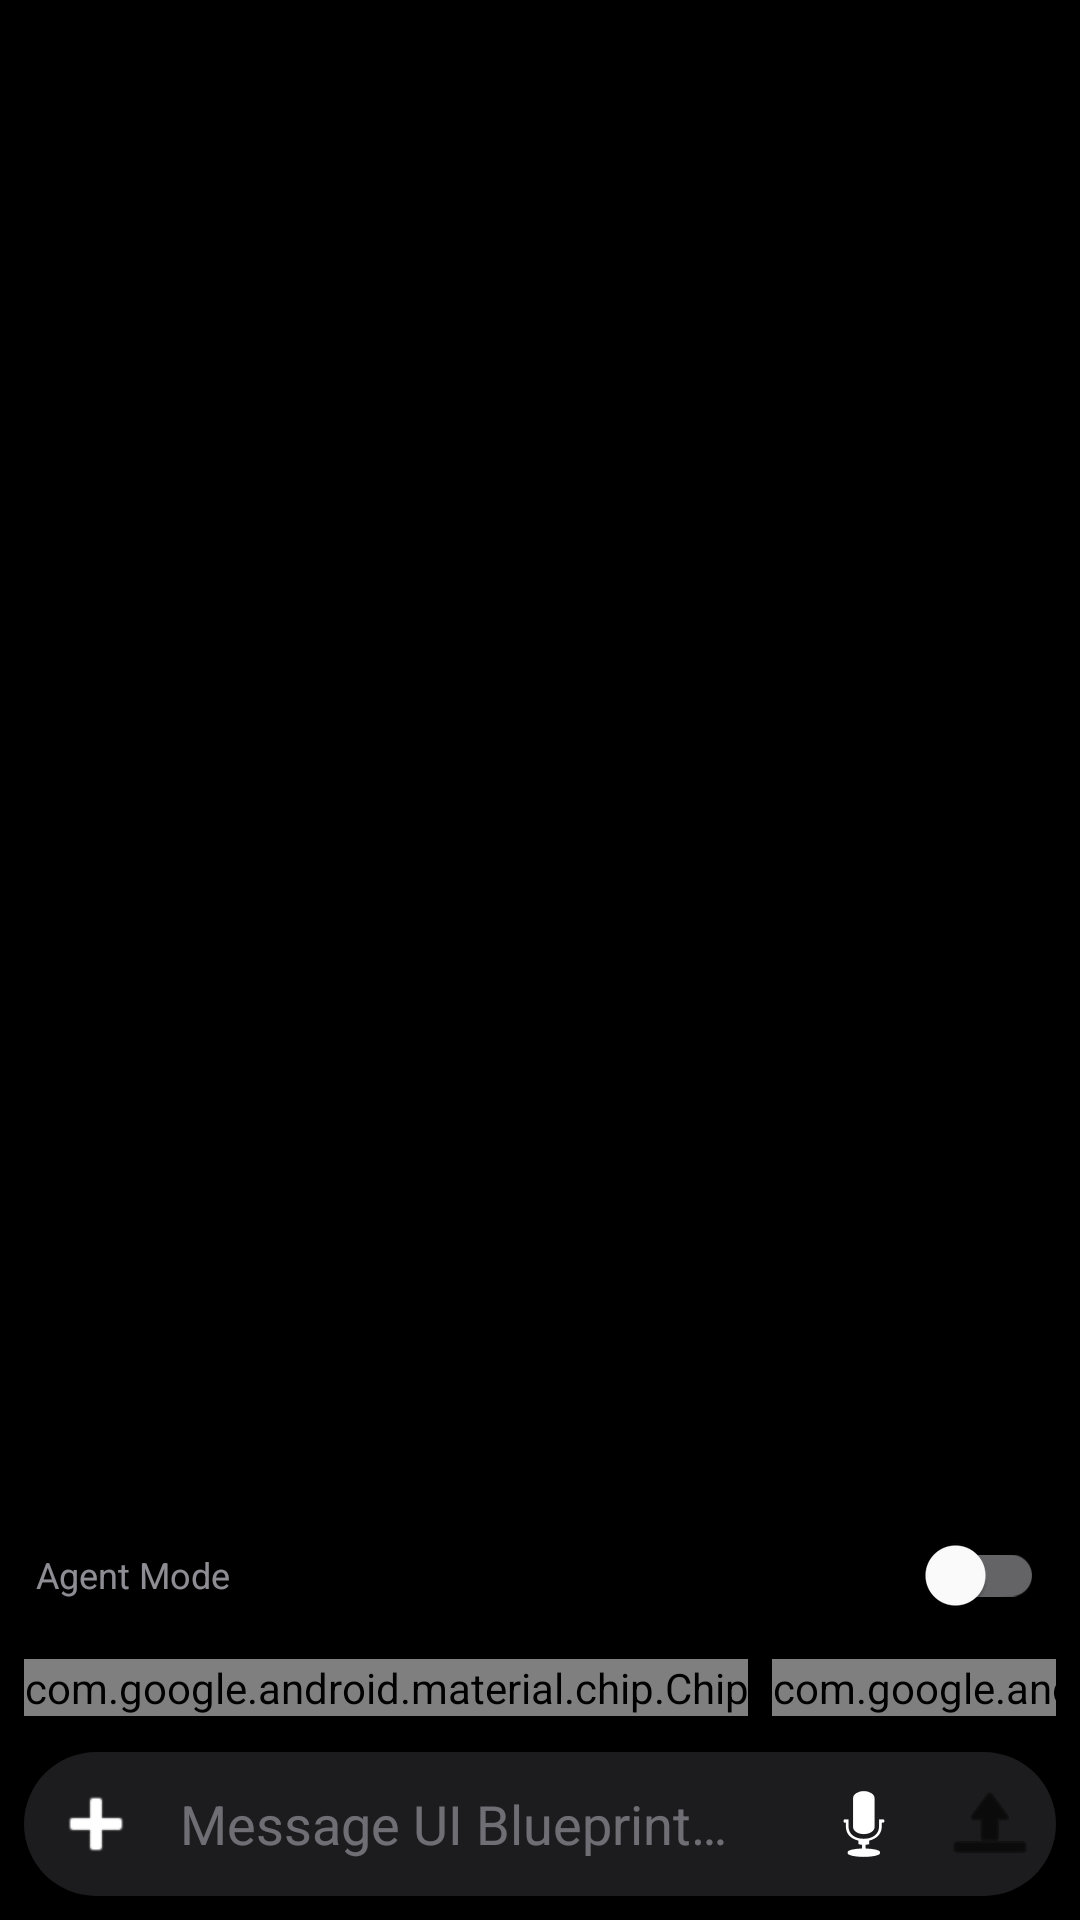

Where icons sit on this 1080x1920 app screen, as detection(x1, y1, x2, y2):
Attach: detection(69, 1797, 123, 1851)
Voice input: detection(843, 1791, 885, 1857)
